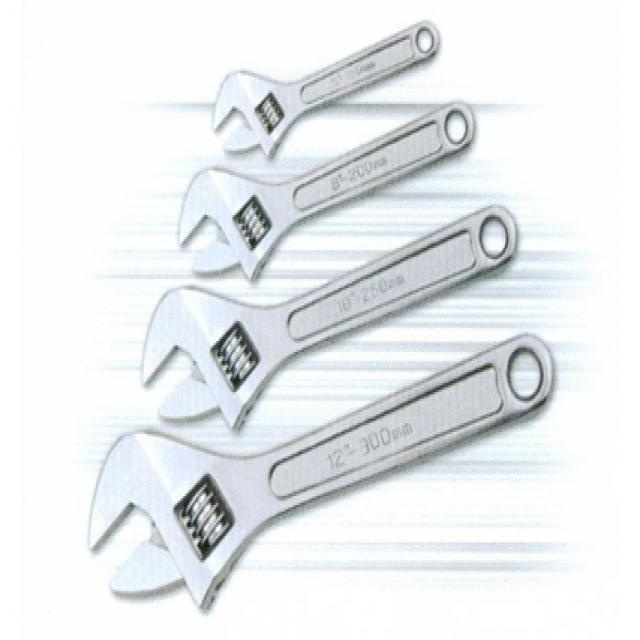wrench: (85, 324, 558, 614), (137, 200, 521, 430), (173, 96, 480, 282), (206, 17, 447, 159)
